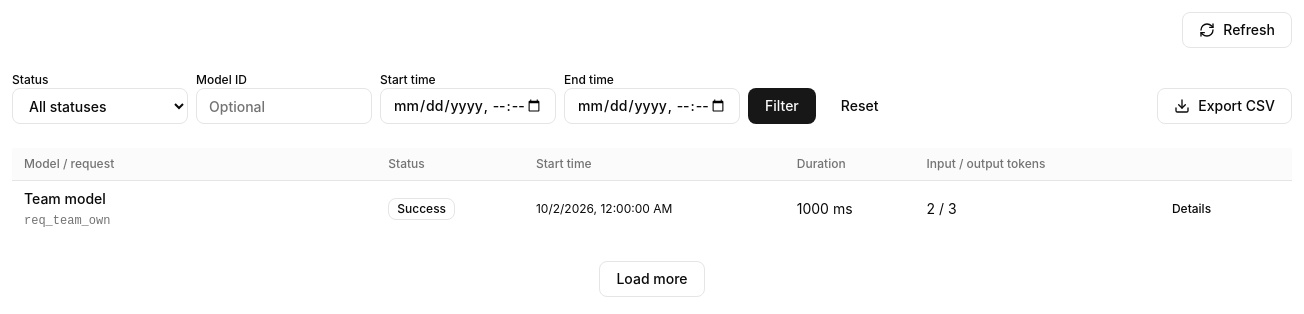
it: own-actor Team calls › does not preserve cached rows after pagination authorization failure
This screenshot has width=1304, height=314.
Click the button "Load more".
click(652, 279)  # box [599,261,704,297]
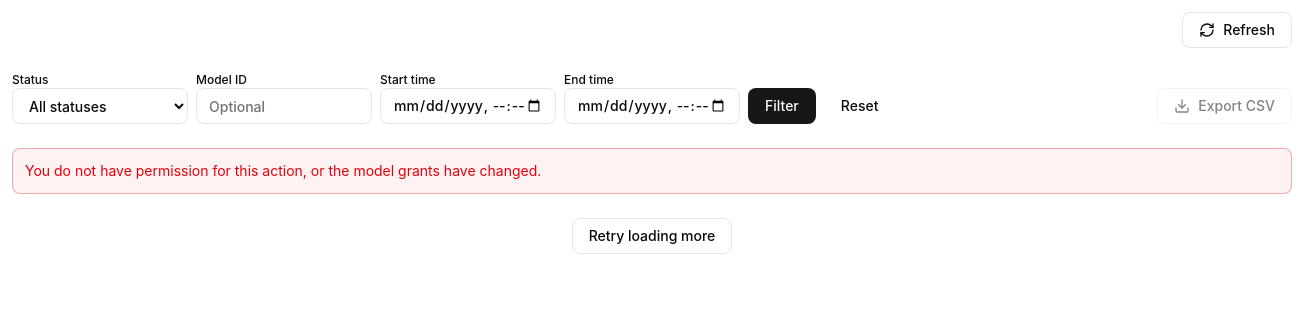
Expected: the text "req_team_own" is gone
